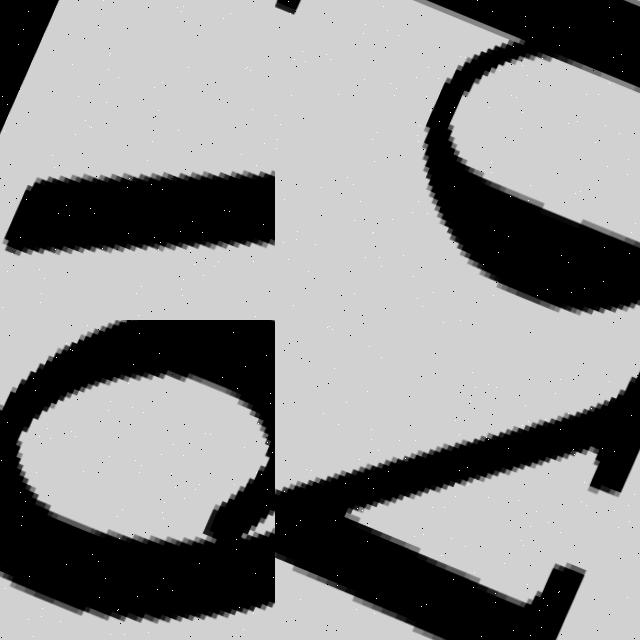6: (0, 320, 275, 640)
7: (0, 0, 275, 320)
Q: (275, 0, 640, 320)
Y: (275, 320, 640, 640)
